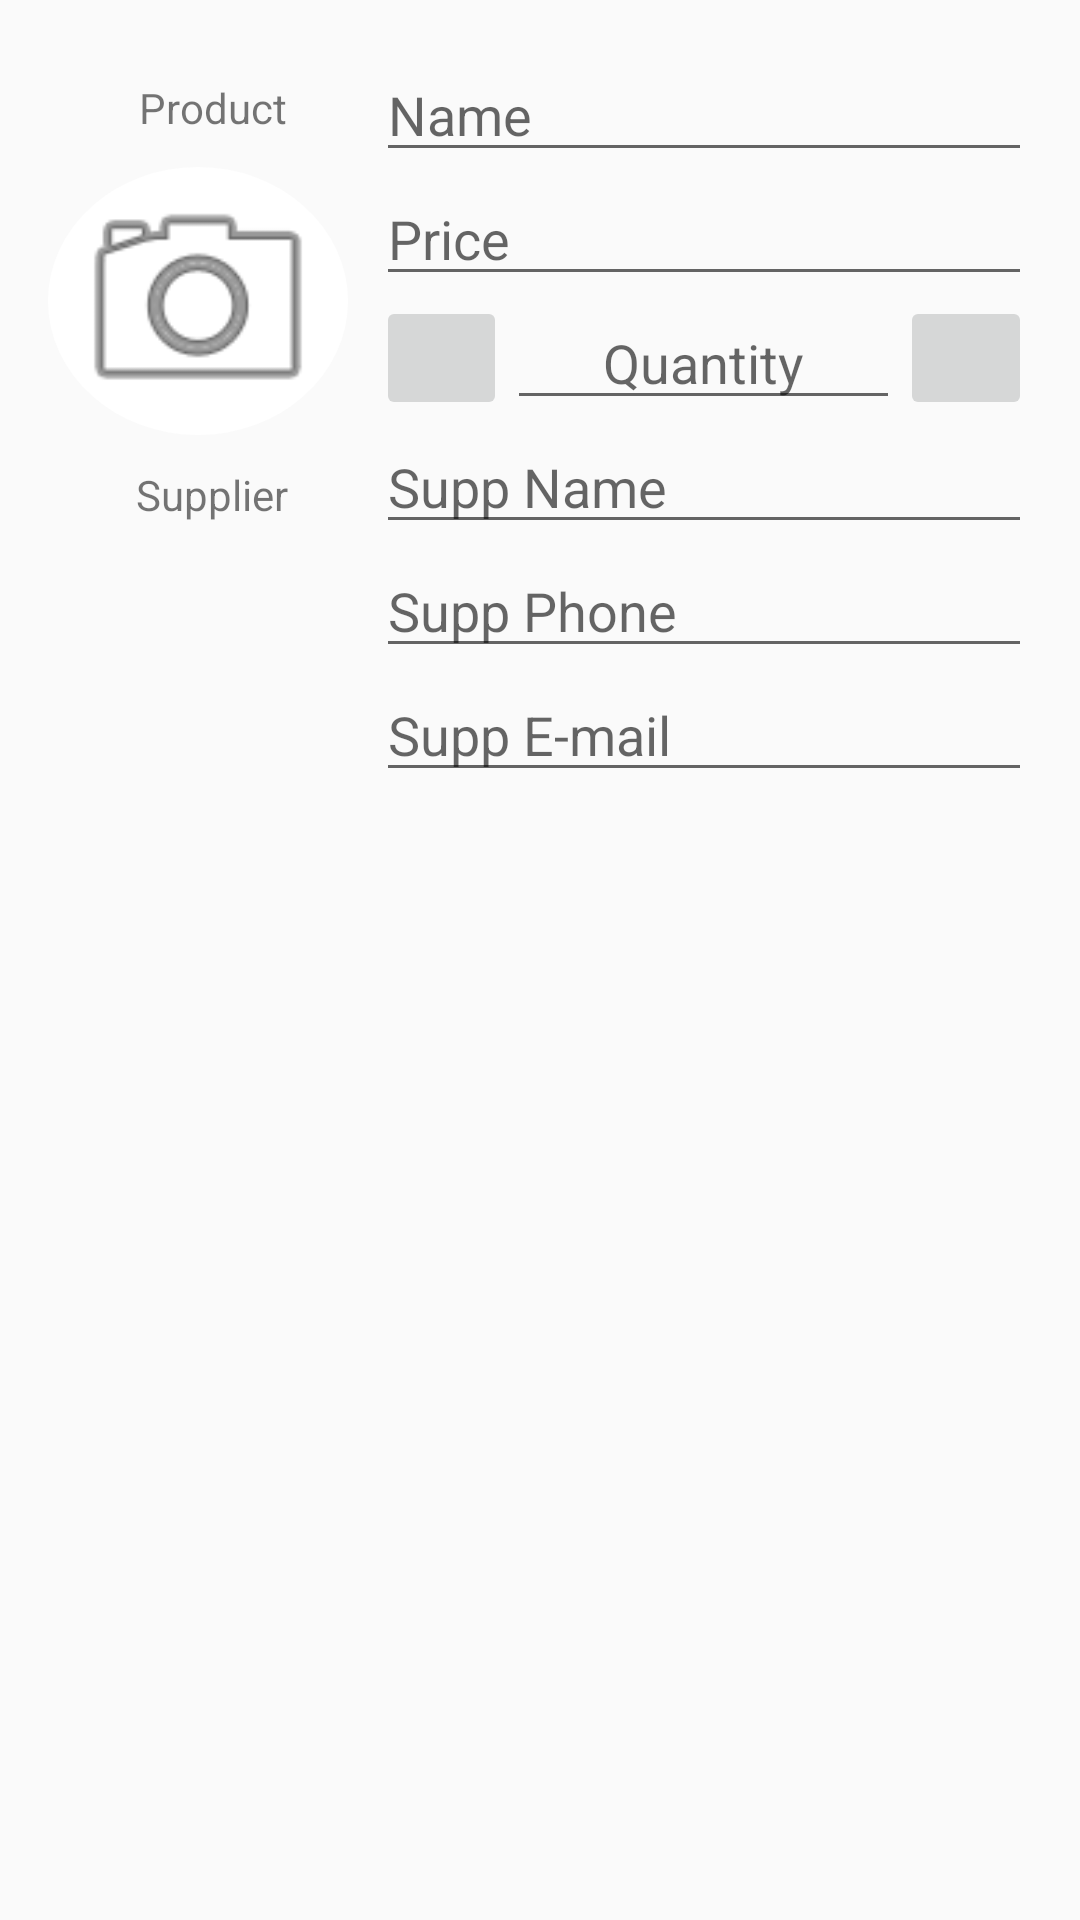

Icon click points for this 1080x1920 phone screenshot, format [x,y]:
camera: [198,296]
